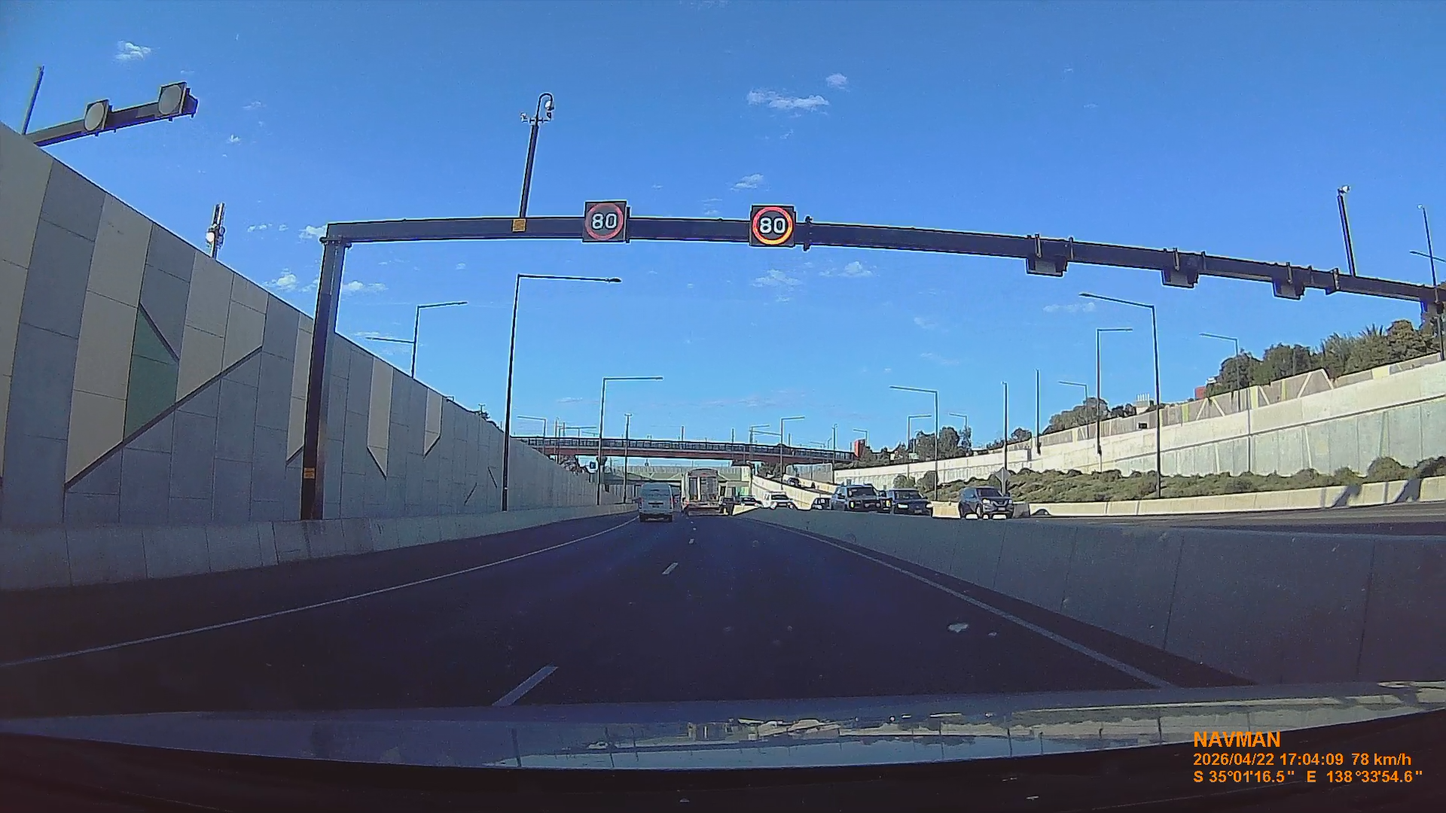road barriers: (788, 513, 1445, 684), (0, 505, 627, 590)
